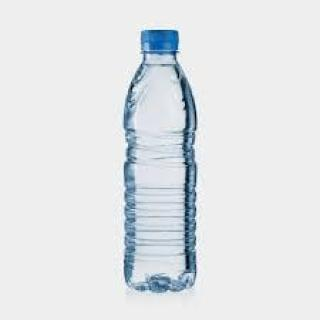Plastic-bottle: (119, 27, 204, 298)
